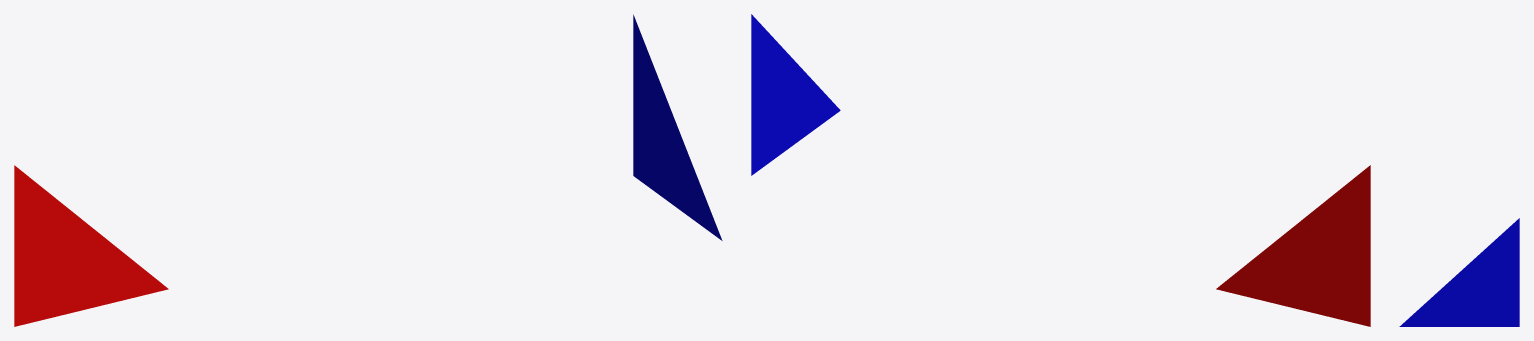
The model's file is multi-mesh.fbx.
3 views of the same model, side by side, from view 1: azimuth 30°, elevation 25°; view 2: azimuth 150°, elevation 25°; view 3: azimuth 270°, elevation 25° (orthographic). The views are drawn at different scales.
Visible parts, largest first — view 1: MeshA, MeshB; view 2: MeshA, MeshB; view 3: MeshB.
Part boxes in pixels (x1,y1,x2,y2): MeshA: [14, 165, 168, 326]; MeshB: [633, 14, 722, 240]; MeshA: [1216, 165, 1370, 326]; MeshB: [751, 14, 840, 175]; MeshB: [1399, 218, 1519, 326].
Size of the model in its own units: 4 by 1 by 1.
